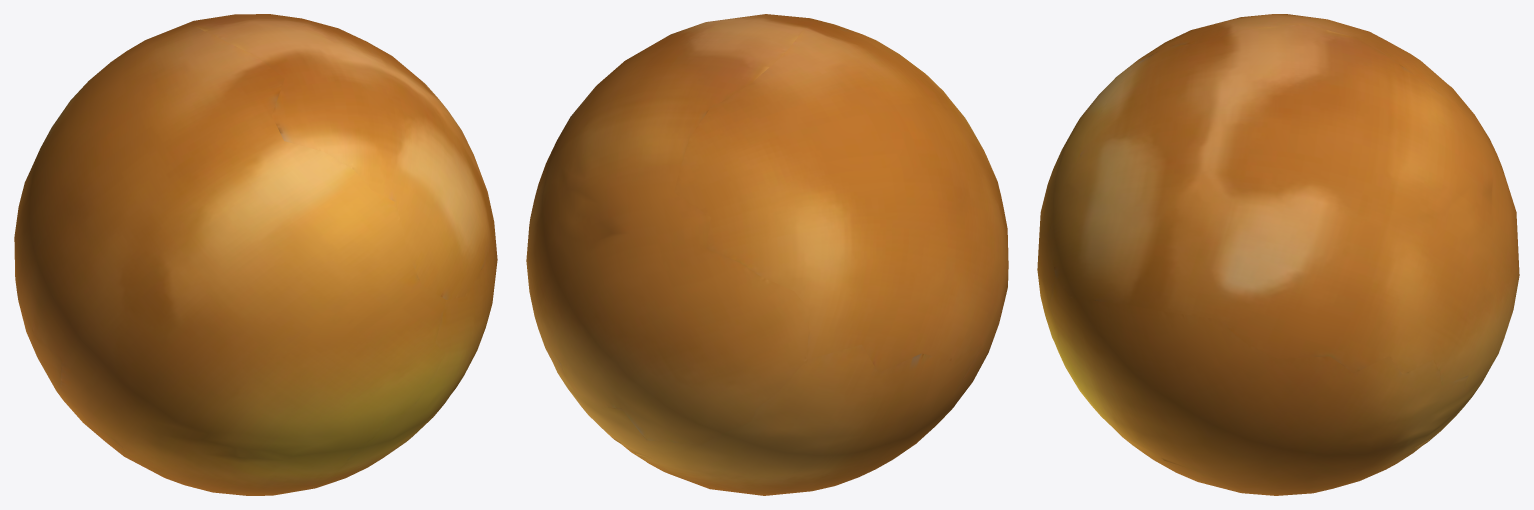
Rendered from nectarOrb.glb.
3 renders of one model, left to right at view 1: azimuth 30°, elevation 25°; view 2: azimuth 150°, elevation 25°; view 3: azimuth 270°, elevation 25°, orthographic.
Visible parts, largest first — view 1: model; view 2: model; view 3: model.
Boxes of the visible parts, <box> form: model: <box>14,14,497,495</box>; model: <box>526,14,1008,495</box>; model: <box>1037,14,1519,495</box>.
Bounding box in the file's own units: 1.91 × 1.9 × 1.9.
1 material, 1 textured.
